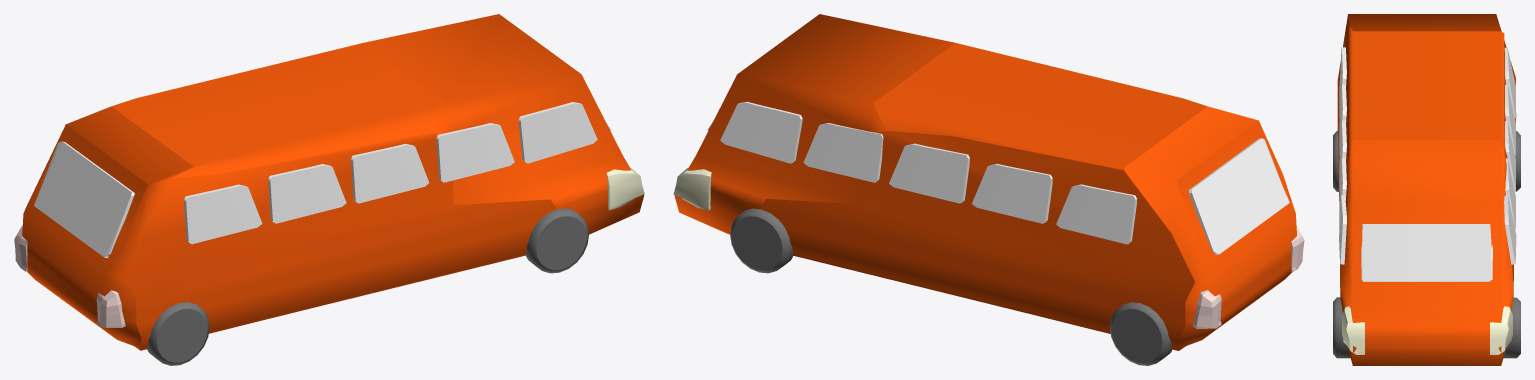
File: CarroRojo.fbx
3 renders of one model, left to right at view 1: azimuth 30°, elevation 25°; view 2: azimuth 150°, elevation 25°; view 3: azimuth 270°, elevation 25°, orthographic. The views are drawn at different scales.
Parts seen in each view (by area): view 1: pCube1, pCube10, pCube8, pCube13, pCube14, pCube12, pasted__pCube8, pCylinder1, pCylinder2, pCube11, pCube9; view 2: pCube1, pCube10, pasted__pasted__pCube12, pasted__pCube17, pasted__pCube15, pasted__pCube16, pasted__pCube12, pCylinder3, pCylinder4, pCube11, pCube9; view 3: pCube1, pCube6, pCube9, pCylinder1, pCylinder3, pasted__pasted__pCube12, pasted__pCube8, pasted__pCube17, pasted__pCube15, pasted__pCube16, pasted__pCube12, pCylinder2 (+5 smaller).
Boxes of the visible parts, bbox=[...] form: pCube1: bbox=[22, 14, 644, 350]; pCube10: bbox=[34, 141, 134, 258]; pCube8: bbox=[436, 123, 514, 182]; pCube13: bbox=[268, 164, 346, 223]; pCube14: bbox=[184, 184, 262, 244]; pCube12: bbox=[351, 143, 429, 203]; pasted__pCube8: bbox=[518, 102, 597, 163]; pCylinder1: bbox=[526, 208, 588, 273]; pCylinder2: bbox=[147, 302, 209, 365]; pCube11: bbox=[14, 226, 125, 327]; pCube9: bbox=[606, 167, 644, 210]; pCube1: bbox=[674, 14, 1296, 350]; pCube10: bbox=[1189, 138, 1289, 254]; pasted__pasted__pCube12: bbox=[720, 101, 802, 163]; pasted__pCube17: bbox=[1056, 184, 1137, 244]; pasted__pCube15: bbox=[889, 143, 969, 203]; pasted__pCube16: bbox=[972, 163, 1052, 223]; pasted__pCube12: bbox=[803, 123, 883, 182]; pCylinder3: bbox=[730, 208, 793, 273]; pCylinder4: bbox=[1109, 302, 1172, 365]; pCube11: bbox=[1193, 227, 1304, 328]; pCube9: bbox=[673, 167, 711, 210]; pCube1: bbox=[1337, 14, 1515, 365]; pCube6: bbox=[1361, 224, 1492, 281]; pCube9: bbox=[1342, 306, 1512, 354]; pCylinder1: bbox=[1333, 297, 1350, 358]; pCylinder3: bbox=[1503, 297, 1520, 358]; pasted__pasted__pCube12: bbox=[1504, 195, 1516, 264]; pasted__pCube8: bbox=[1339, 195, 1346, 264]; pasted__pCube17: bbox=[1504, 47, 1515, 118]; pasted__pCube15: bbox=[1505, 120, 1515, 191]; pasted__pCube16: bbox=[1505, 84, 1515, 155]; pasted__pCube12: bbox=[1505, 158, 1515, 228]; pCylinder2: bbox=[1333, 131, 1338, 191].
Bounding box in the file's own units: 33.34 × 11.06 × 11.09.
